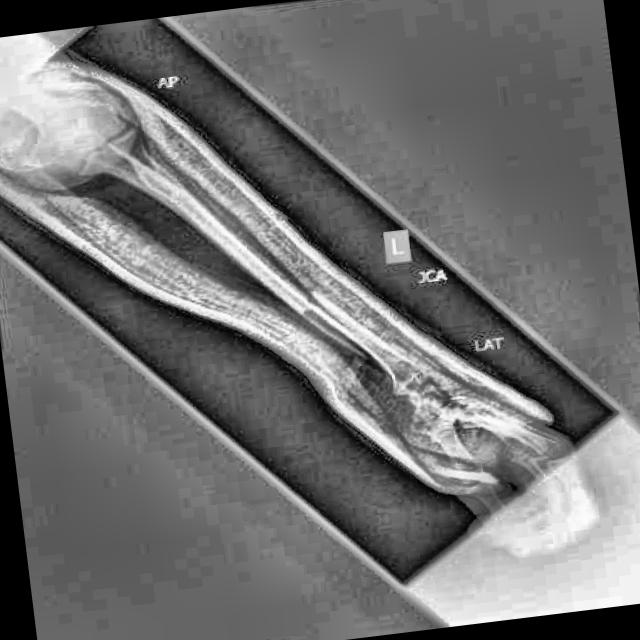forearm fracture: (275, 266, 363, 342)
